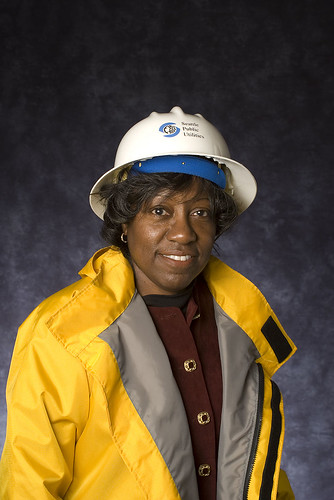person hardhat: (15, 109, 312, 498)
